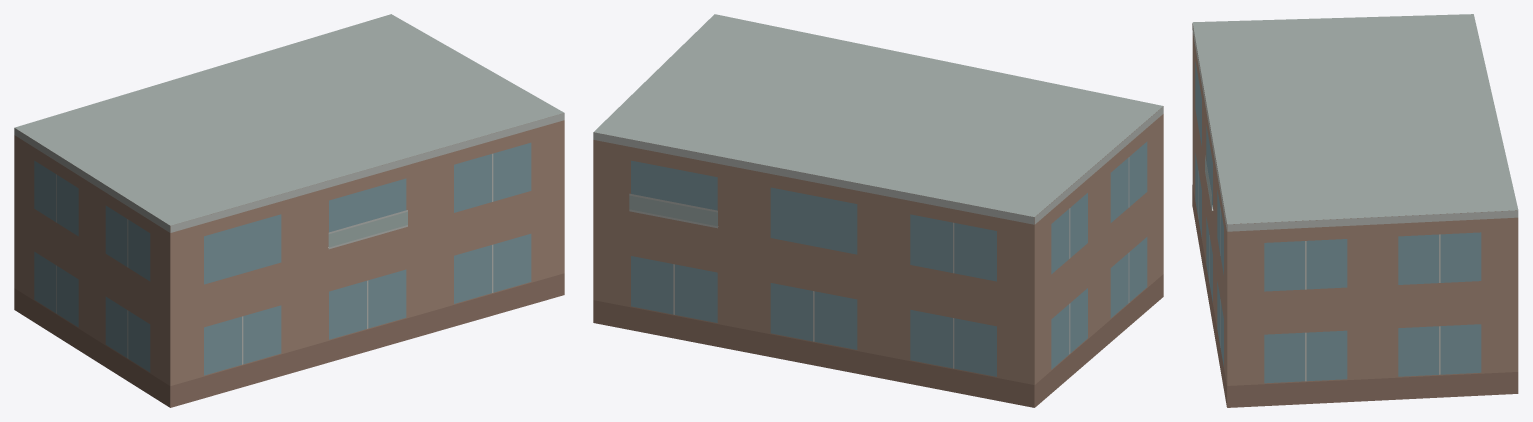
Rendered from survey-upis-32871440.glb.
3 renders of one model, left to right at view 1: azimuth 30°, elevation 25°; view 2: azimuth 150°, elevation 25°; view 3: azimuth 270°, elevation 25°, orthographic. The views are drawn at different scales.
Visible parts, largest first — view 1: survey-upis-32871440.tmp; view 2: survey-upis-32871440.tmp; view 3: survey-upis-32871440.tmp.
Boxes of the visible parts, x1=… form: survey-upis-32871440.tmp: x1=14, y1=14, x2=564, y2=407; survey-upis-32871440.tmp: x1=593, y1=14, x2=1163, y2=407; survey-upis-32871440.tmp: x1=1192, y1=14, x2=1518, y2=407.
Bounding box in the file's own units: 15.01 × 6.1 × 9.83.
